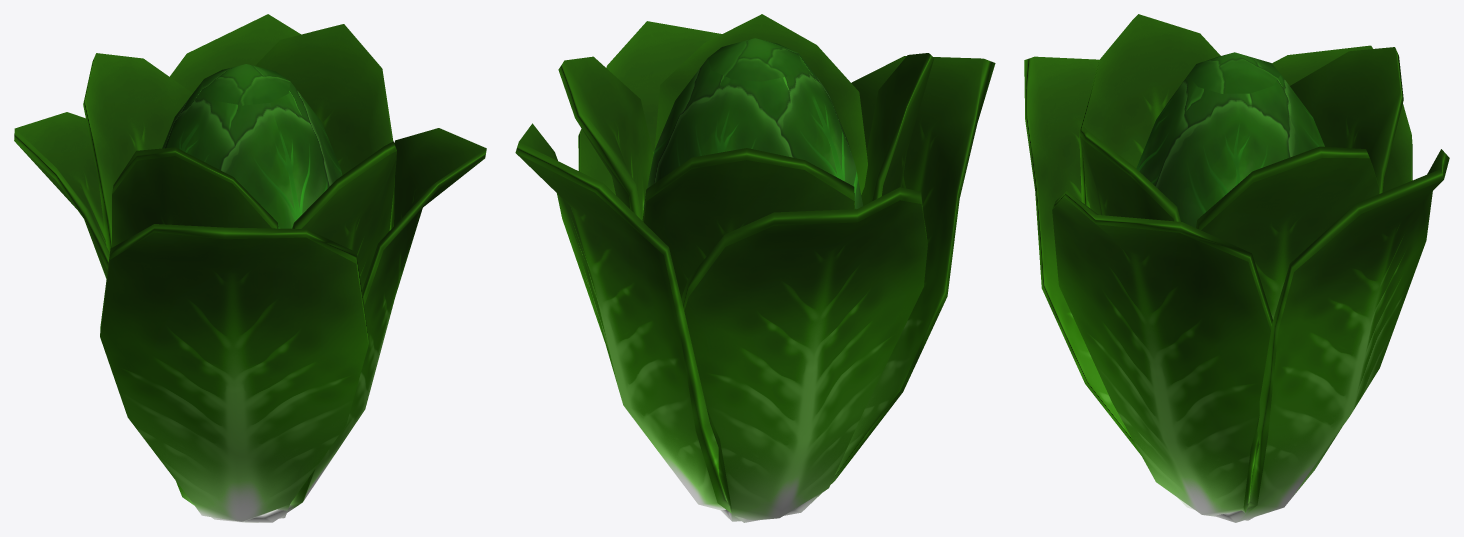
File: Lettuce.fbx
3 renders of one model, left to right at view 1: azimuth 30°, elevation 25°; view 2: azimuth 150°, elevation 25°; view 3: azimuth 270°, elevation 25°, orthographic. The views are drawn at different scales.
Parts seen in each view (by area): view 1: Lettuce; view 2: Lettuce; view 3: Lettuce.
Boxes of the visible parts, left/top/right/bottom form: Lettuce: left=14, top=14, right=486, bottom=522; Lettuce: left=515, top=14, right=995, bottom=522; Lettuce: left=1024, top=14, right=1449, bottom=522.
Bounding box in the file's own units: 72.65 × 94.56 × 78.12.
